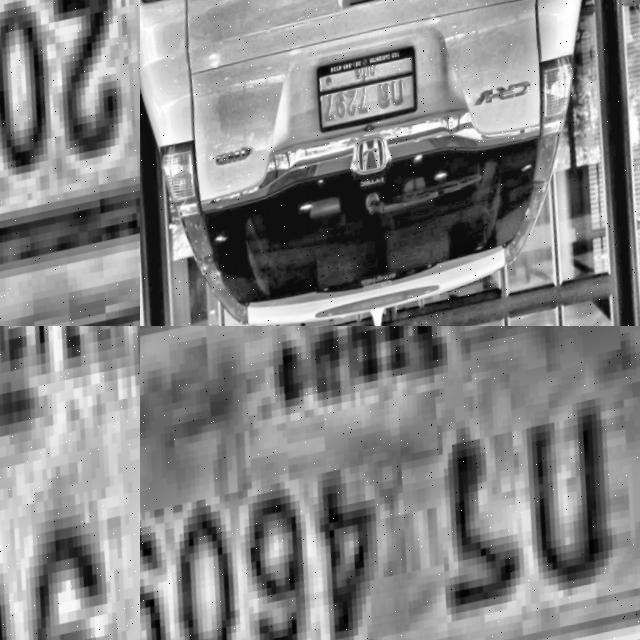license-plate: (140, 326, 640, 640), (0, 0, 140, 319), (0, 326, 140, 640), (313, 48, 429, 144)
